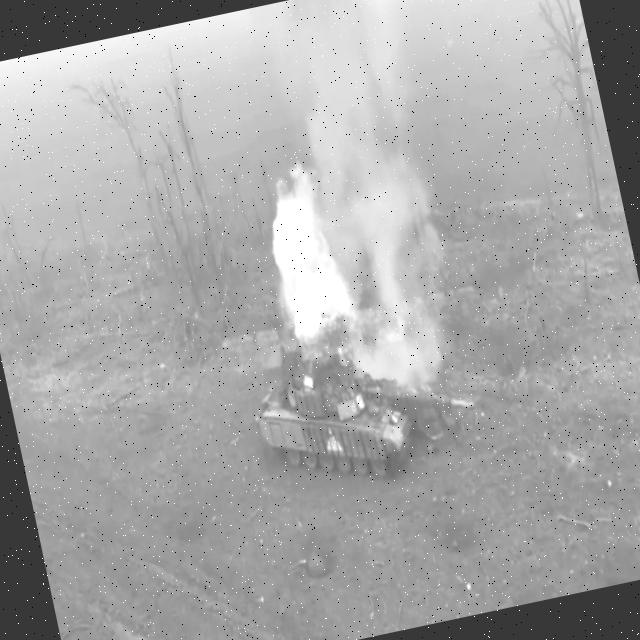MBT: (242, 296, 486, 504)
